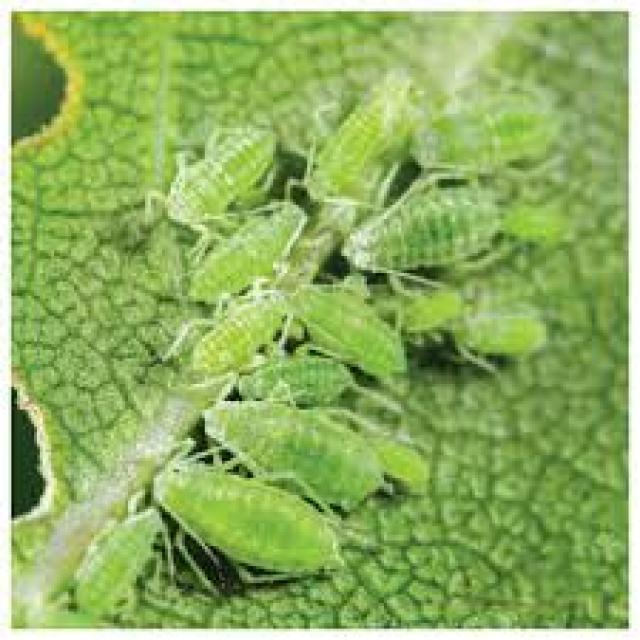aphid: (142, 443, 352, 573), (198, 396, 388, 515), (134, 122, 286, 236), (293, 72, 414, 204), (386, 95, 552, 189), (340, 189, 502, 275), (291, 278, 418, 378), (73, 499, 165, 624), (165, 284, 282, 362), (449, 303, 555, 377), (234, 358, 374, 410), (366, 426, 435, 486), (392, 284, 466, 334), (504, 208, 568, 252)
